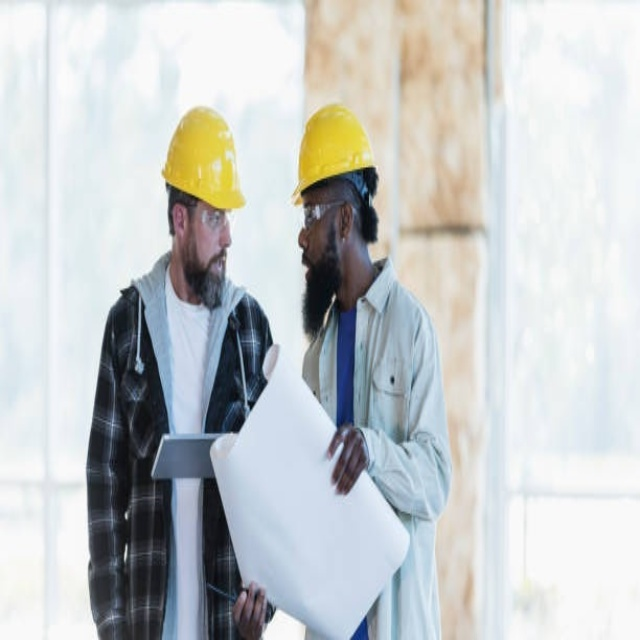Gafas: (182, 201, 241, 227), (300, 199, 344, 223)
Sin_guantes: (324, 423, 371, 494), (232, 580, 268, 640)
Sin_mascara: (204, 233, 234, 277), (295, 231, 318, 285)
